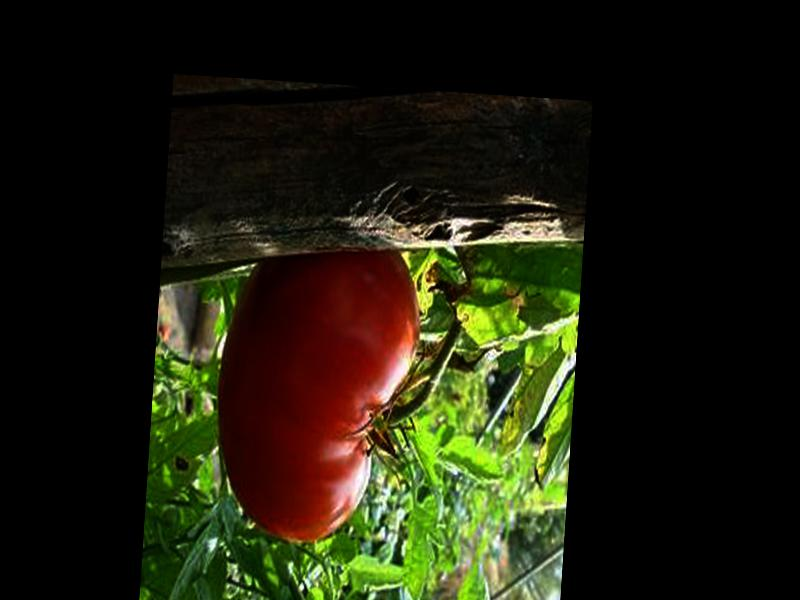Tomato: (211, 235, 424, 549)
